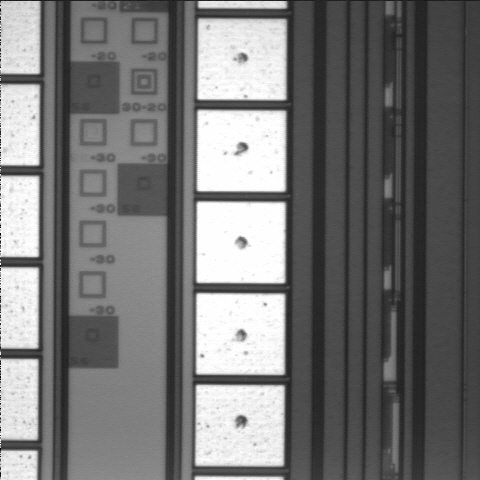pad: (197, 110, 286, 192), (196, 293, 285, 375), (196, 202, 285, 283), (195, 385, 284, 466), (198, 19, 286, 100)
